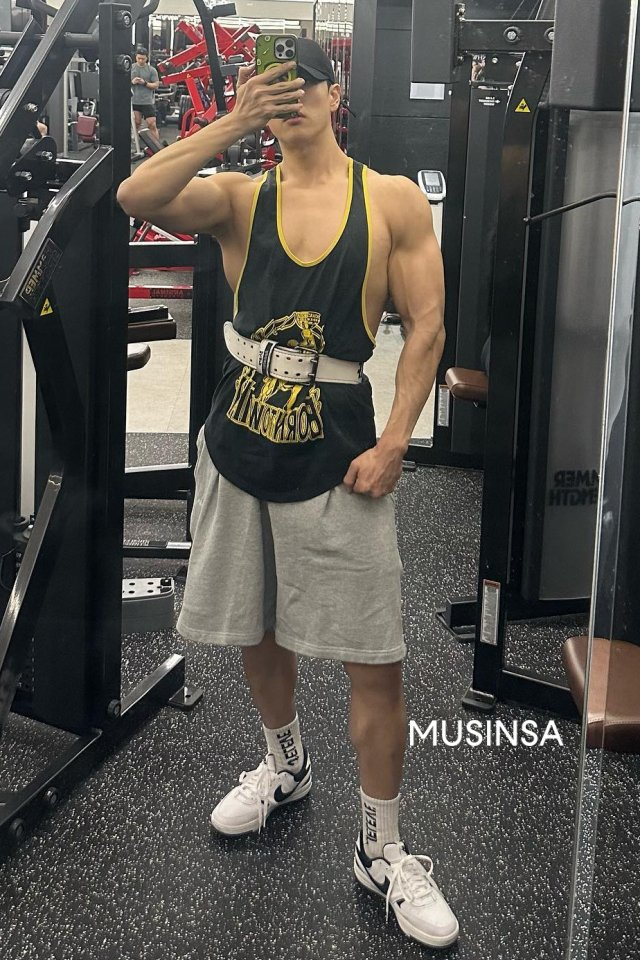Accessories: (216, 318, 372, 400)
Cap: (289, 35, 346, 85)
Shoes: (207, 747, 467, 952)
Shorts: (169, 414, 425, 669)
Top: (218, 156, 393, 502)
